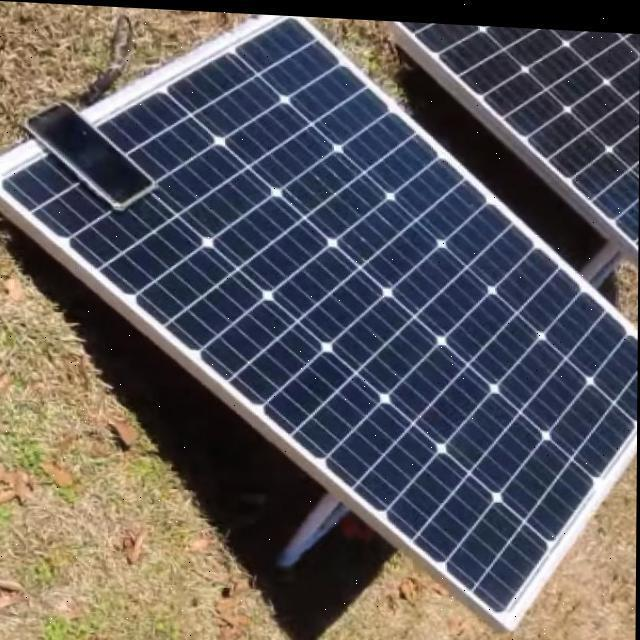Normal Solar Panel: (0, 1, 640, 626), (393, 17, 640, 243)
